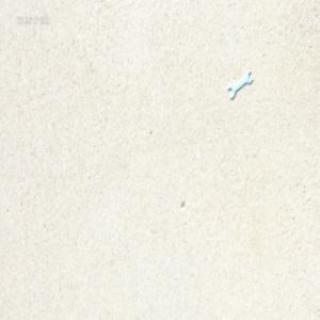Wrenchtrack_idkeyframe: (226, 71, 252, 100)
